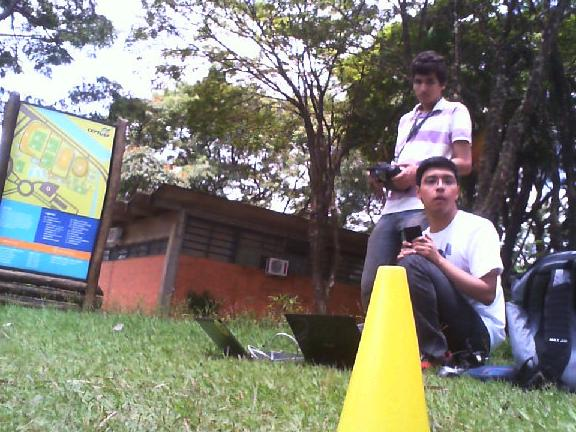0 cone: (305, 265, 450, 432)
